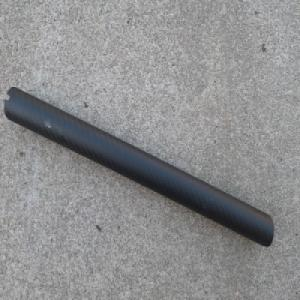LuggagePart: (3, 83, 274, 249)
